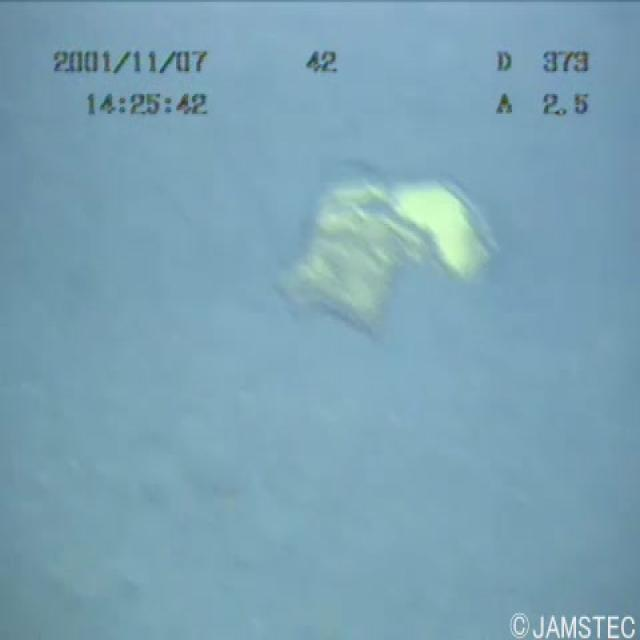plastic: (270, 137, 498, 338)
